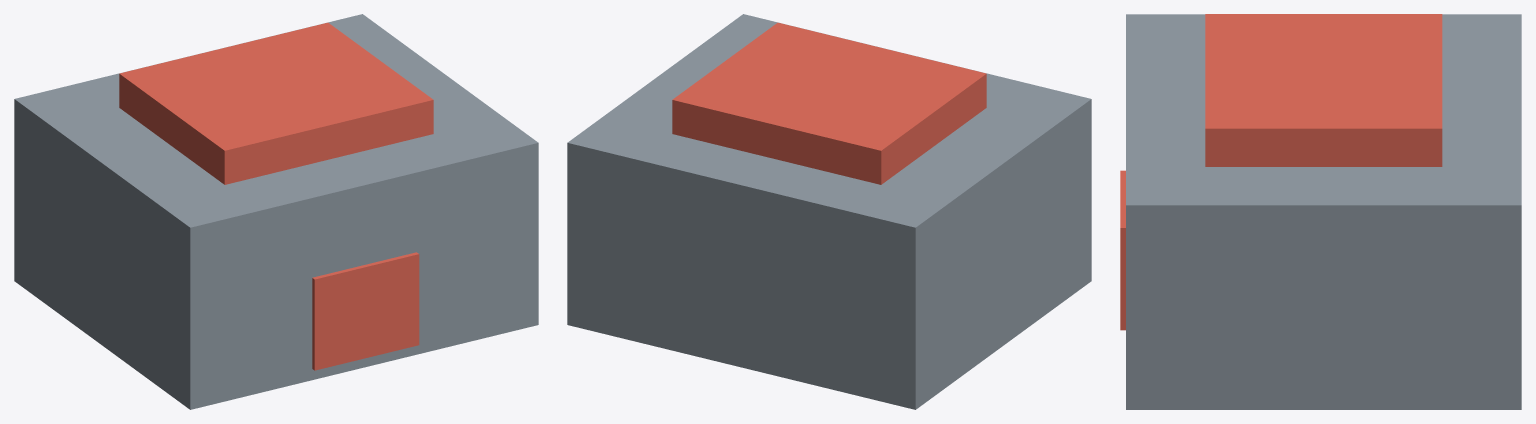
Rendered from SU_MCV_MobileYard_LOD0.glb.
The picture shows the model from 3 angles, left to right: view 1: azimuth 30°, elevation 25°; view 2: azimuth 150°, elevation 25°; view 3: azimuth 270°, elevation 25°; orthographic projection. The views are drawn at different scales.
Visible parts, largest first — view 1: EntranceGate; view 2: EntranceGate; view 3: EntranceGate.
Part boxes in pixels (box(x1,y1,x2,y2)): EntranceGate: box(14, 14, 538, 409); EntranceGate: box(567, 14, 1091, 409); EntranceGate: box(1120, 14, 1521, 409).
Size of the model in its own units: 800 by 475 by 710.
